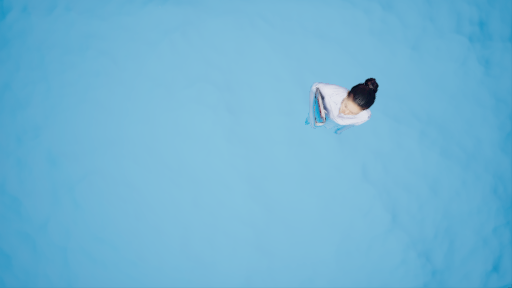person: (291, 74, 377, 132)
